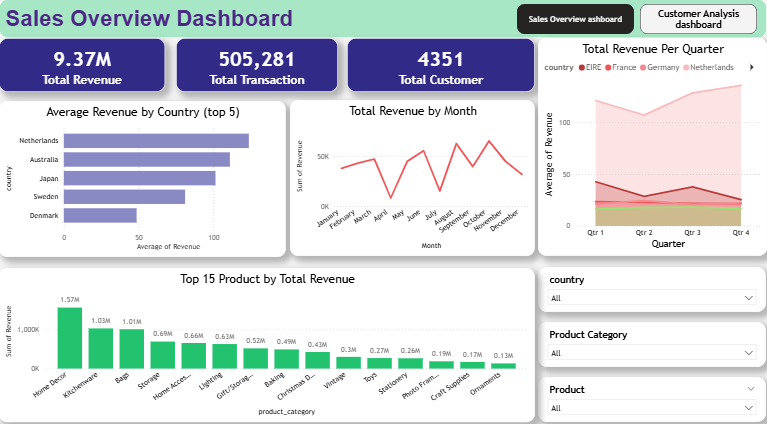

Layout of this report page (visuals, bound fields, positions):
{"tool":"powerbi","page":{"name":"Sales Overview  ashboard","canvas":[1280,720],"ordinal":0},"visuals":[{"type":"textbox","box":[0,0,1280,65],"z":0},{"type":"card","fields":{"Values":["Sum(retail.Revenue)"]},"box":[0,65,276.7,90],"z":1000},{"type":"card","fields":{"Values":["CountNonNull(retail.invoiceno)","select"]},"box":[295,65,270,90],"z":2000},{"type":"card","fields":{"Values":["retail.# Customers"]},"box":[580,65,313.3,90],"z":3000},{"type":"barChart","title":"Average Revenue by Country (top 5)","fields":{"Category":["retail.country"],"Y":["Avg(retail.Revenue)"]},"box":[0,170,478.3,260],"z":4000},{"type":"lineChart","title":"Total Revenue by Month","fields":{"Category":["retail.invoicedate.Variation.Date Hierarchy.Month"],"Y":["Sum(retail.Revenue)"]},"box":[485,168.3,408.3,260],"z":5000},{"type":"areaChart","title":"Total Revenue Per  Quarter","fields":{"Category":["retail.invoicedate.Variation.Date Hierarchy.Quarter"],"Y":["Avg(retail.Revenue)"],"Series":["retail.country"]},"box":[898.3,65,381.7,363.3],"z":6000},{"type":"slicer","fields":{"Values":["retail.country"]},"box":[898.3,446.7,380,75],"z":7000},{"type":"slicer","fields":{"Values":["retail.product_category"]},"box":[898.3,538.3,380,75],"z":8000},{"type":"slicer","fields":{"Values":["retail.description"]},"box":[898.3,630,380,75],"z":9000},{"type":"columnChart","title":"Top 15 Product by Total Revenue","fields":{"Category":["retail.product_category"],"Y":["Sum(retail.Revenue)"]},"box":[0,448.3,893.3,256.7],"z":10000},{"type":"pageNavigator","box":[863.3,8.3,400,50],"z":11000}]}

Visuals, with their boxes in screenshot pixels (x1, y1, x2, y2), scaled from the page's 1280x720 canvas onto the 767x424 screenshot:
textbox: 0, 0, 766, 38
card - Sum(retail.Revenue): 0, 38, 166, 91
card - CountNonNull(retail.invoiceno) x select: 177, 38, 339, 91
card - retail.# Customers: 348, 38, 535, 91
"Average Revenue by Country (top 5)" barChart: 0, 100, 287, 253
"Total Revenue by Month" lineChart: 291, 99, 535, 252
"Total Revenue Per  Quarter" areaChart: 538, 38, 766, 252
slicer - retail.country: 538, 263, 766, 307
slicer - retail.product_category: 538, 317, 766, 361
slicer - retail.description: 538, 371, 766, 415
"Top 15 Product by Total Revenue" columnChart: 0, 264, 535, 415
pageNavigator: 517, 5, 757, 34
